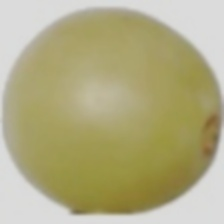grapes: (0, 22, 200, 162)
